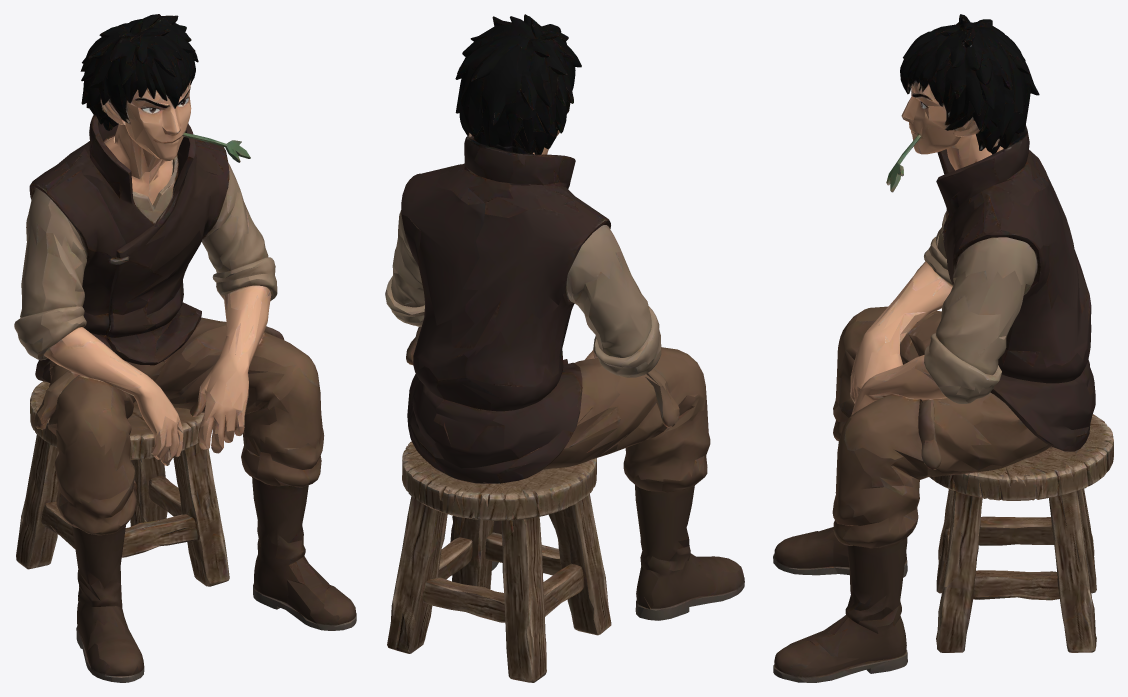
Rendered from jet.glb.
The picture shows the model from 3 angles, left to right: view 1: azimuth 30°, elevation 25°; view 2: azimuth 150°, elevation 25°; view 3: azimuth 270°, elevation 25°; orthographic projection. The views are drawn at different scales.
Visible parts, largest first — view 1: Mesh_0; view 2: Mesh_0; view 3: Mesh_0.
Part boxes in pixels (bbox=[...]): Mesh_0: bbox=[14, 14, 356, 682]; Mesh_0: bbox=[385, 14, 744, 682]; Mesh_0: bbox=[773, 14, 1113, 682].
Size of the model in its own units: 0.8977 by 1.9 by 0.9811.
Materials: 1 (1 with a texture image).
